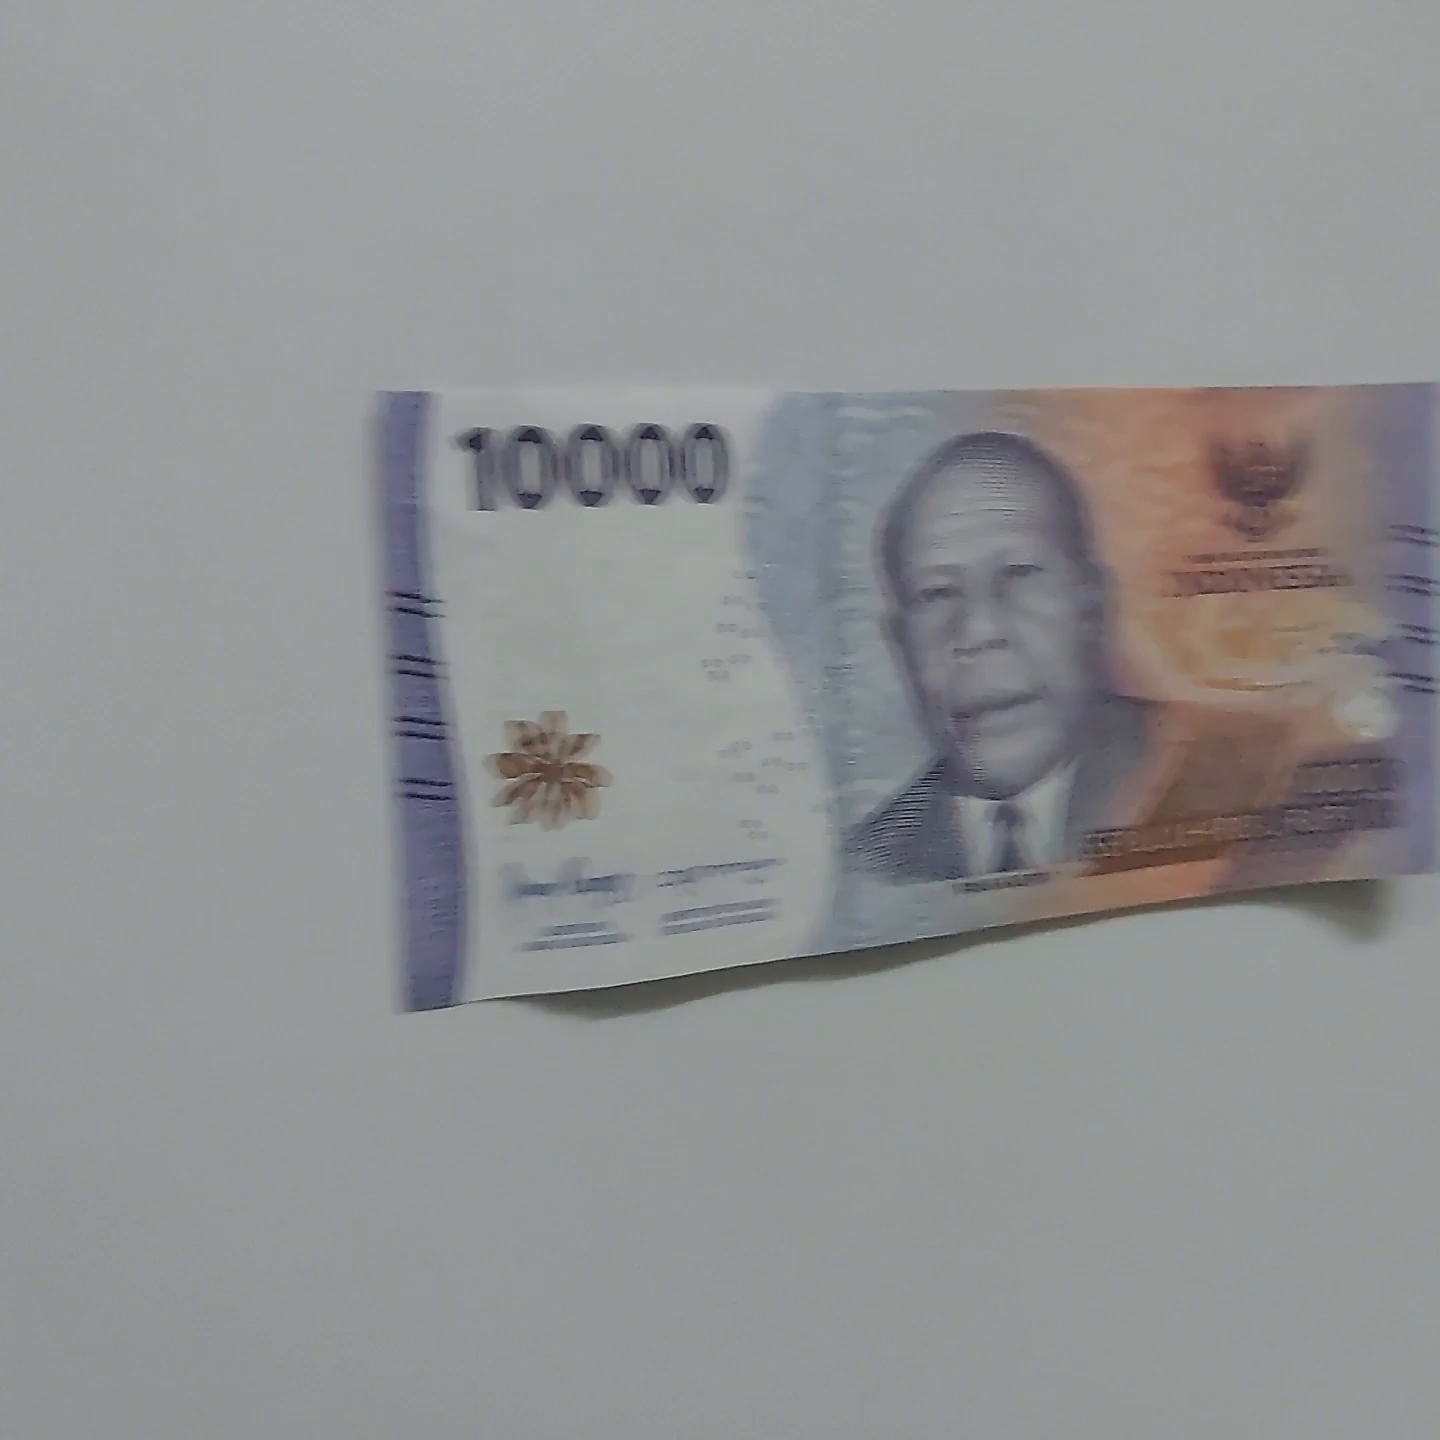10k: (344, 338, 1440, 1009)
